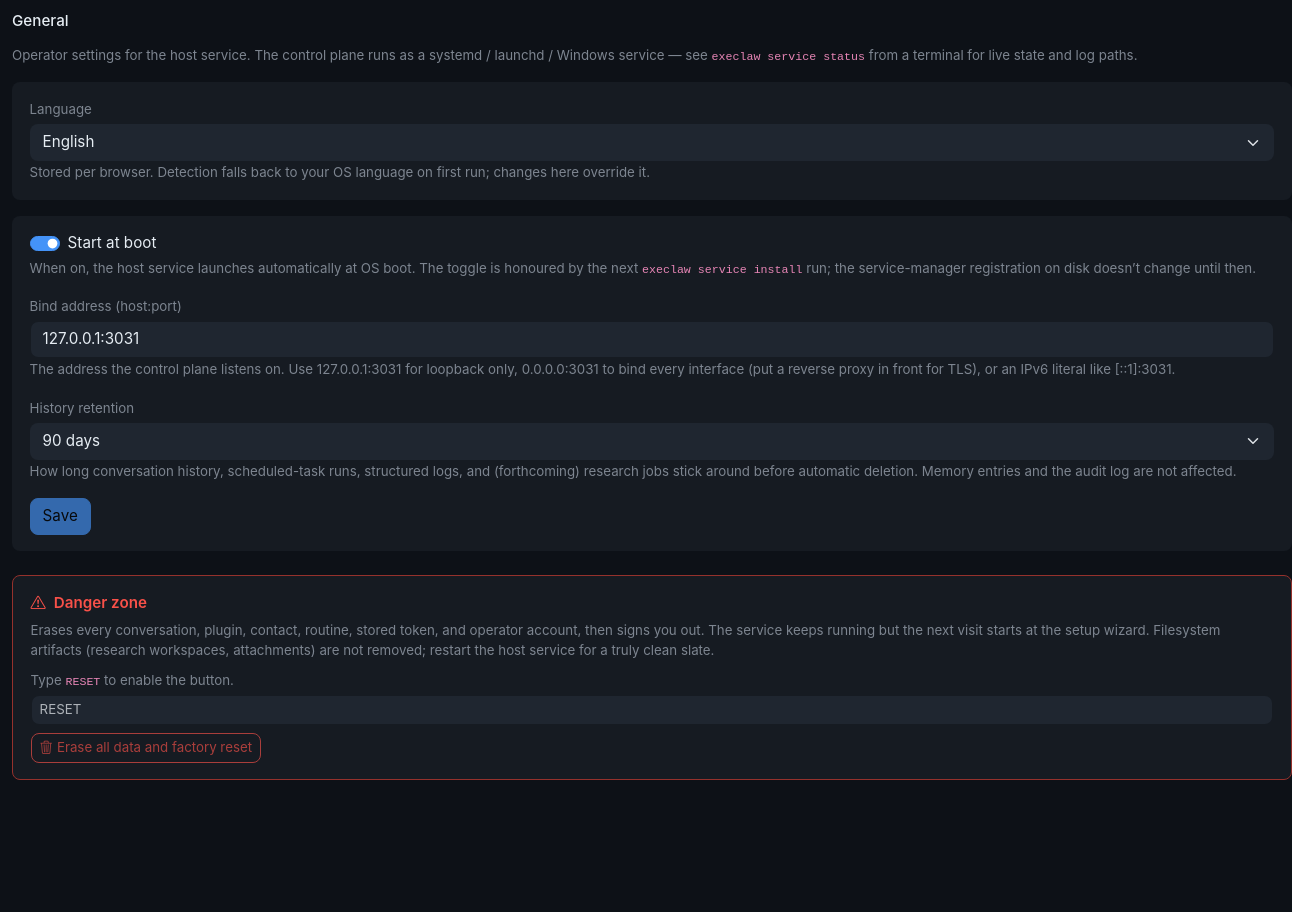
GeneralPage › warns explicitly when shrinking 90 to 30
The width and height of the screenshot is (1292, 912).
// Confirm the seeded value rendered as 90.
Select "30 days" in the dropdown with test id "general-history-retention" at (652, 441), box [30, 423, 1274, 460]
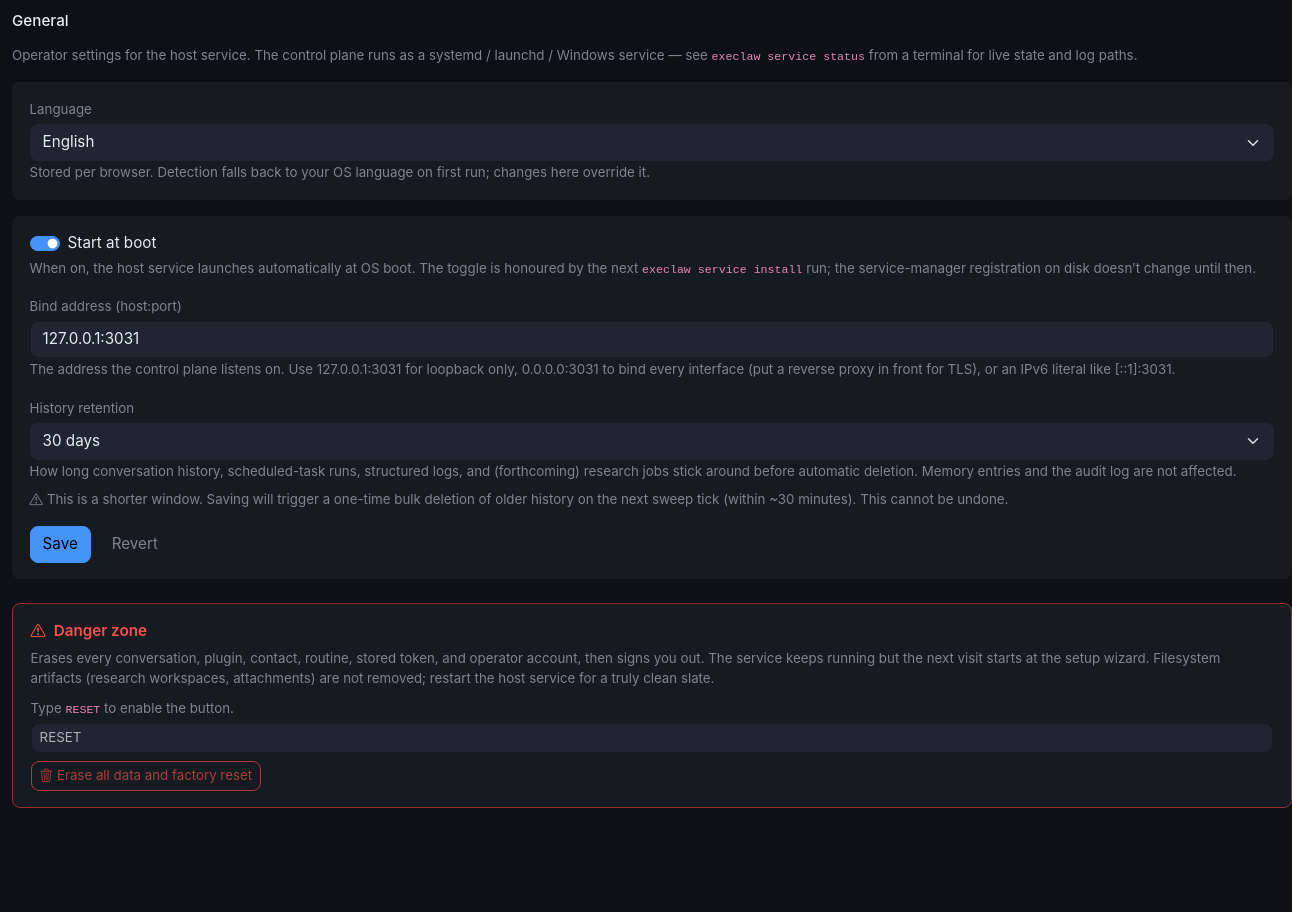
Now the element with test id "general-retention-narrowing-hint" is shown, box [30, 491, 1008, 507]
